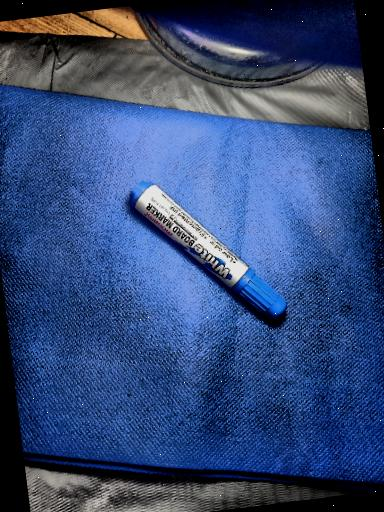marcador azul: (130, 181, 286, 319)
